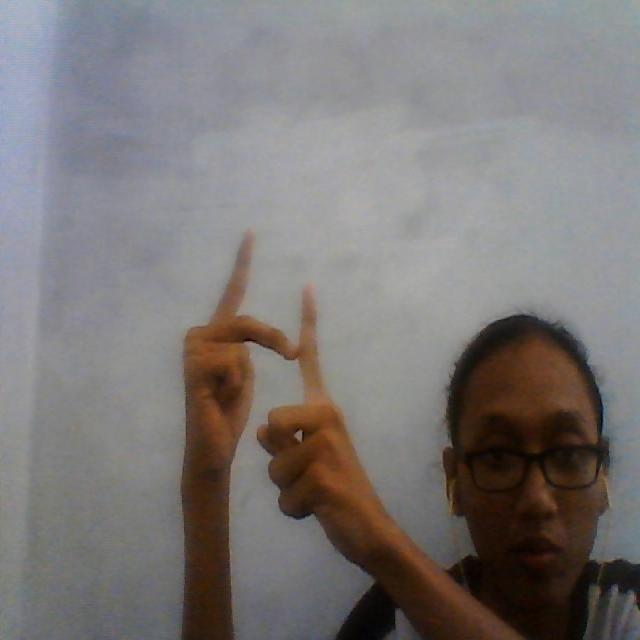H: (185, 218, 356, 482)
